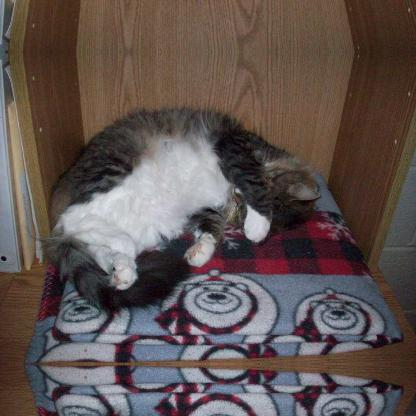Cat: (28, 105, 322, 313)
